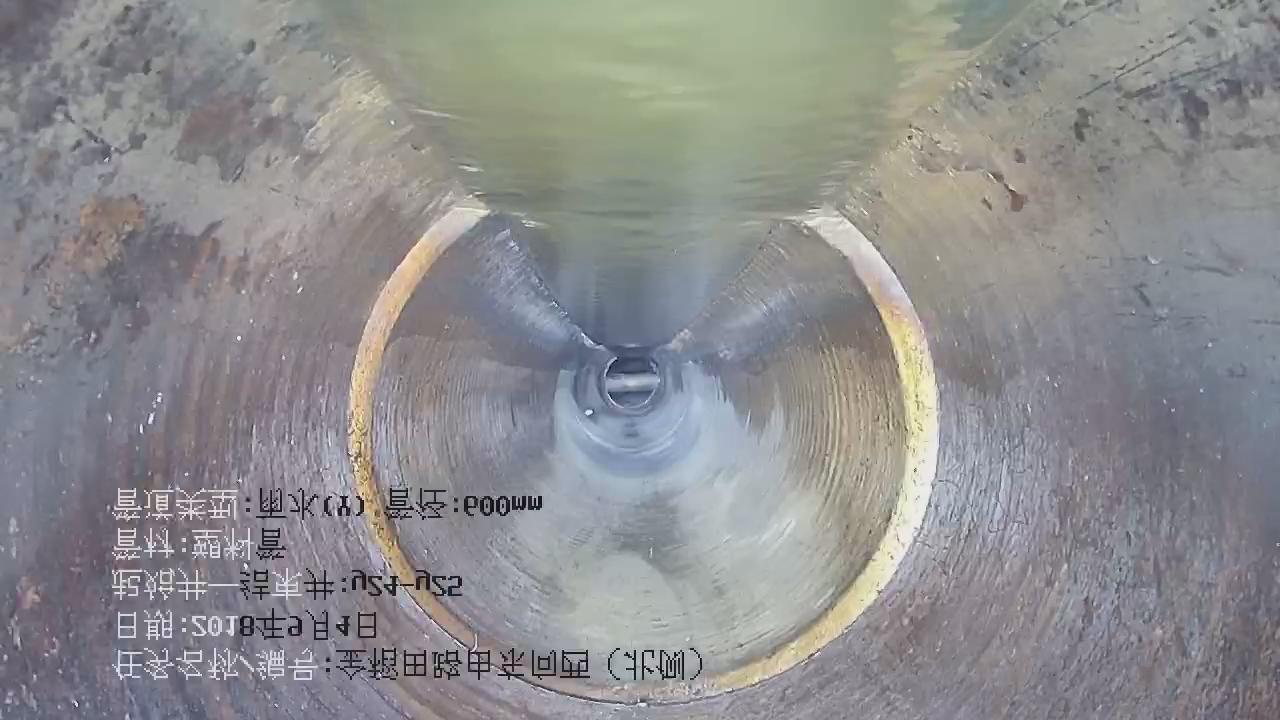CKTJ: (338, 194, 948, 710)
